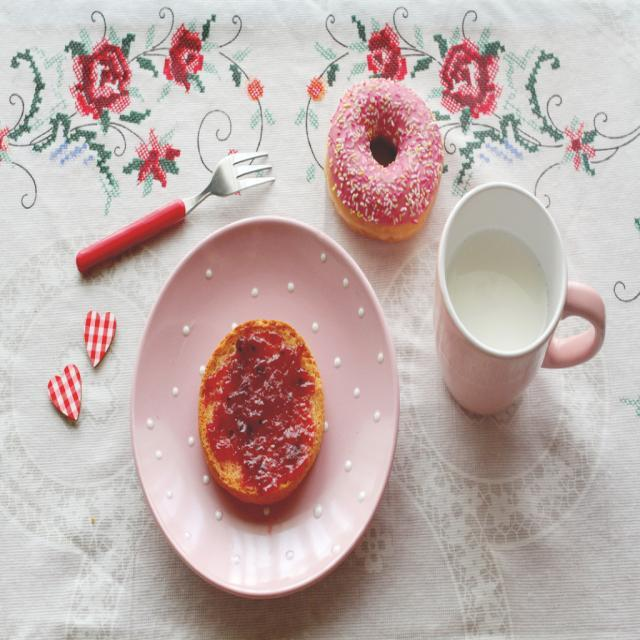Bagel: (328, 70, 444, 240)
